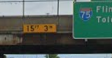1: (25, 24, 30, 33)
3: (42, 24, 49, 32)
5: (29, 24, 34, 33)
overheadsign: (22, 23, 56, 33)
